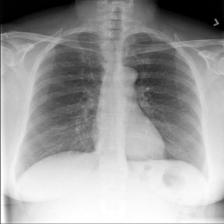normal: (11, 27, 213, 183)
